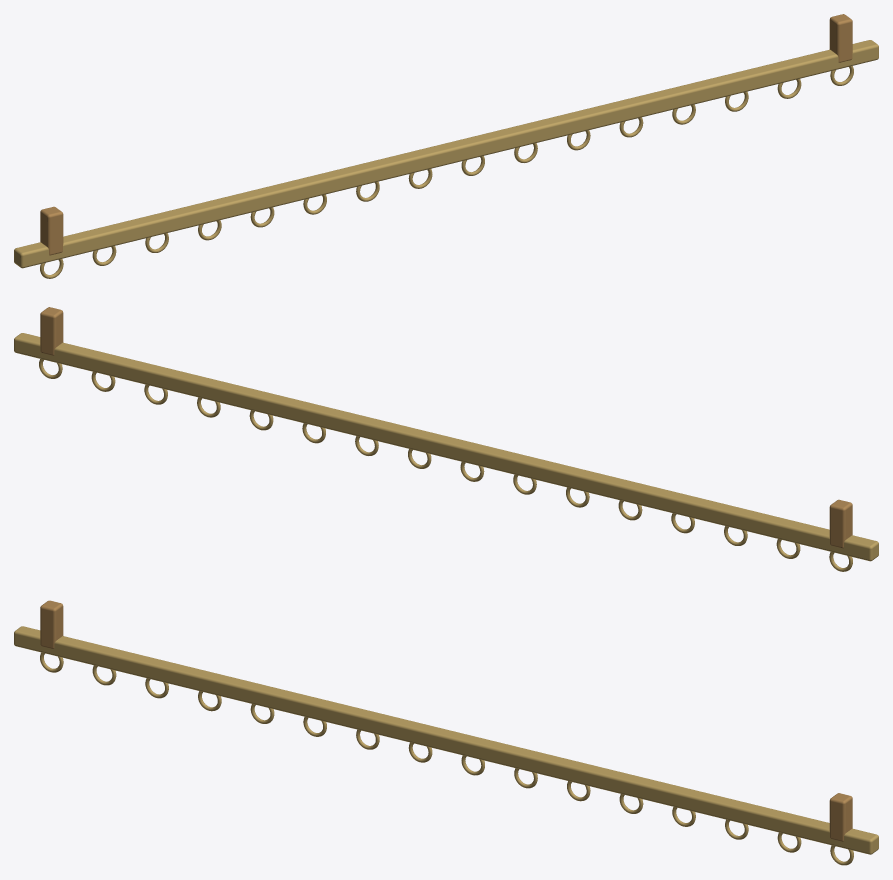
The model's file is abandoned-puppet-theatre-and-prop-vault-curtain-rail-5838438d__31063.glb.
3 renders of one model, top to bottom at view 1: azimuth 30°, elevation 25°; view 2: azimuth 150°, elevation 25°; view 3: azimuth 330°, elevation 25°, orthographic.
Parts seen in each view (by area): view 1: curtain-rail; view 2: curtain-rail; view 3: curtain-rail.
Boxes of the visible parts, x1,y1,x2,y2 form: curtain-rail: (14,14,878,278); curtain-rail: (14,307,878,571); curtain-rail: (14,600,878,865).
Bounding box in the file's own units: 4.35 × 0.3292 × 0.0802.
